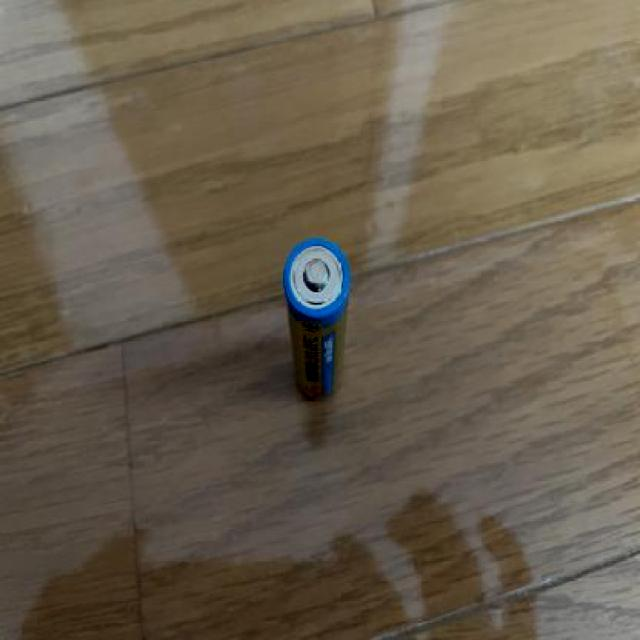AAA: (278, 230, 356, 404)
